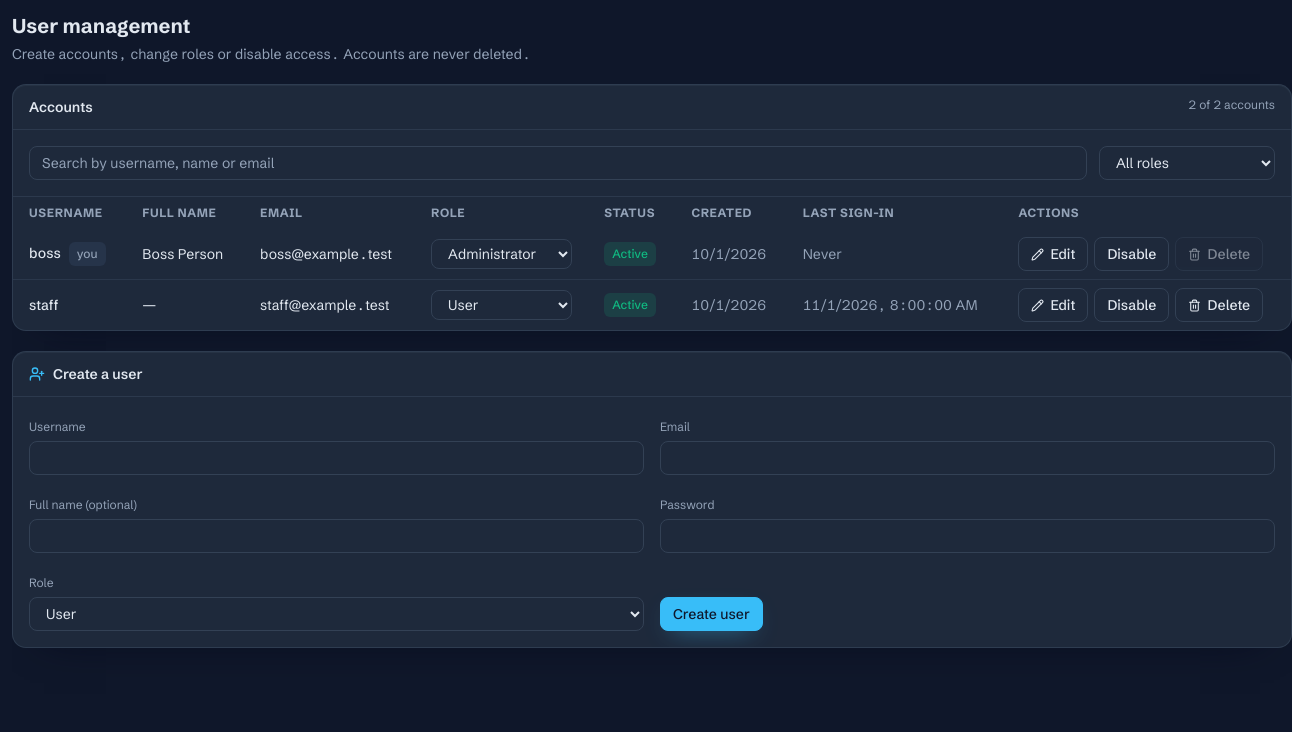
Test: Users page (admin): role, status › 409 LAST_ADMIN → specific message, row unchanged
Click the button "Disable" in the row of "staff@example.test": (1132, 305) [1094,288,1170,322]
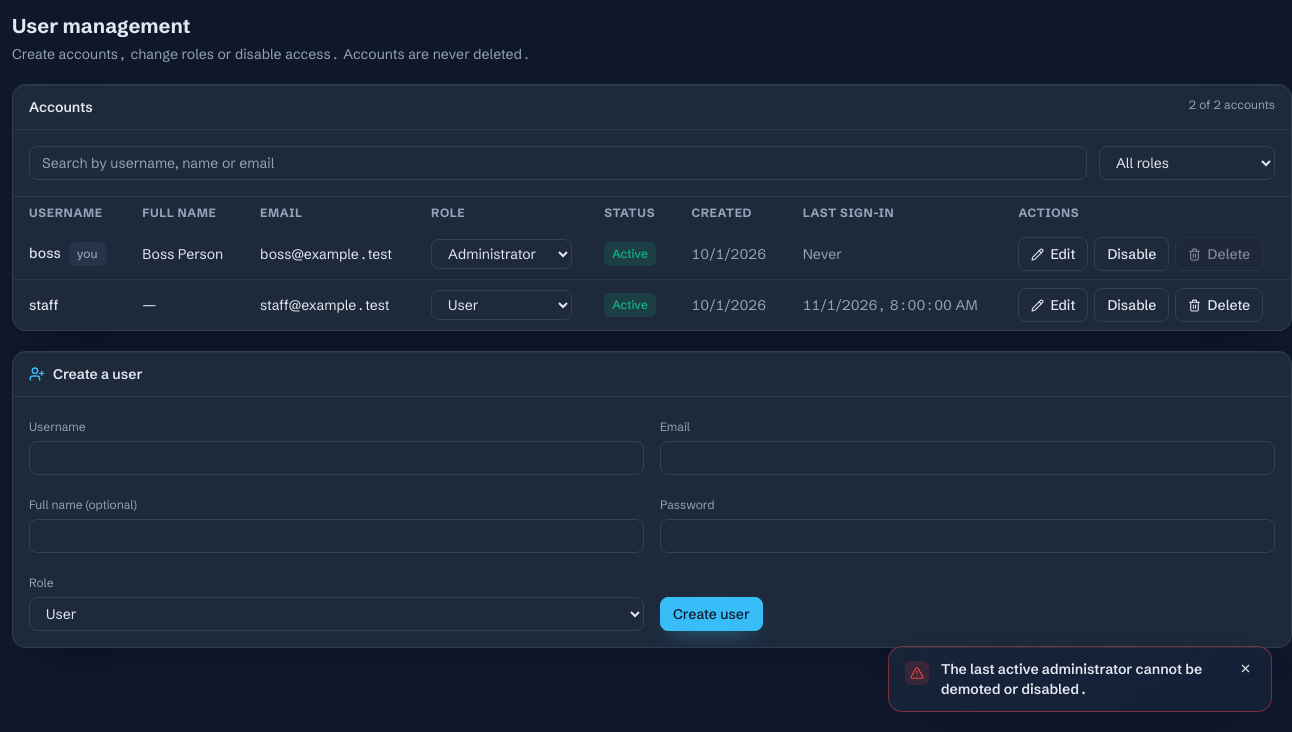
Expected: the text "Active" in the row of "staff@example.test" is shown, [612,297,648,312]
Expected: the text "The last active administrator cannot be demoted or disabled." is shown, [941,659,1220,699]
